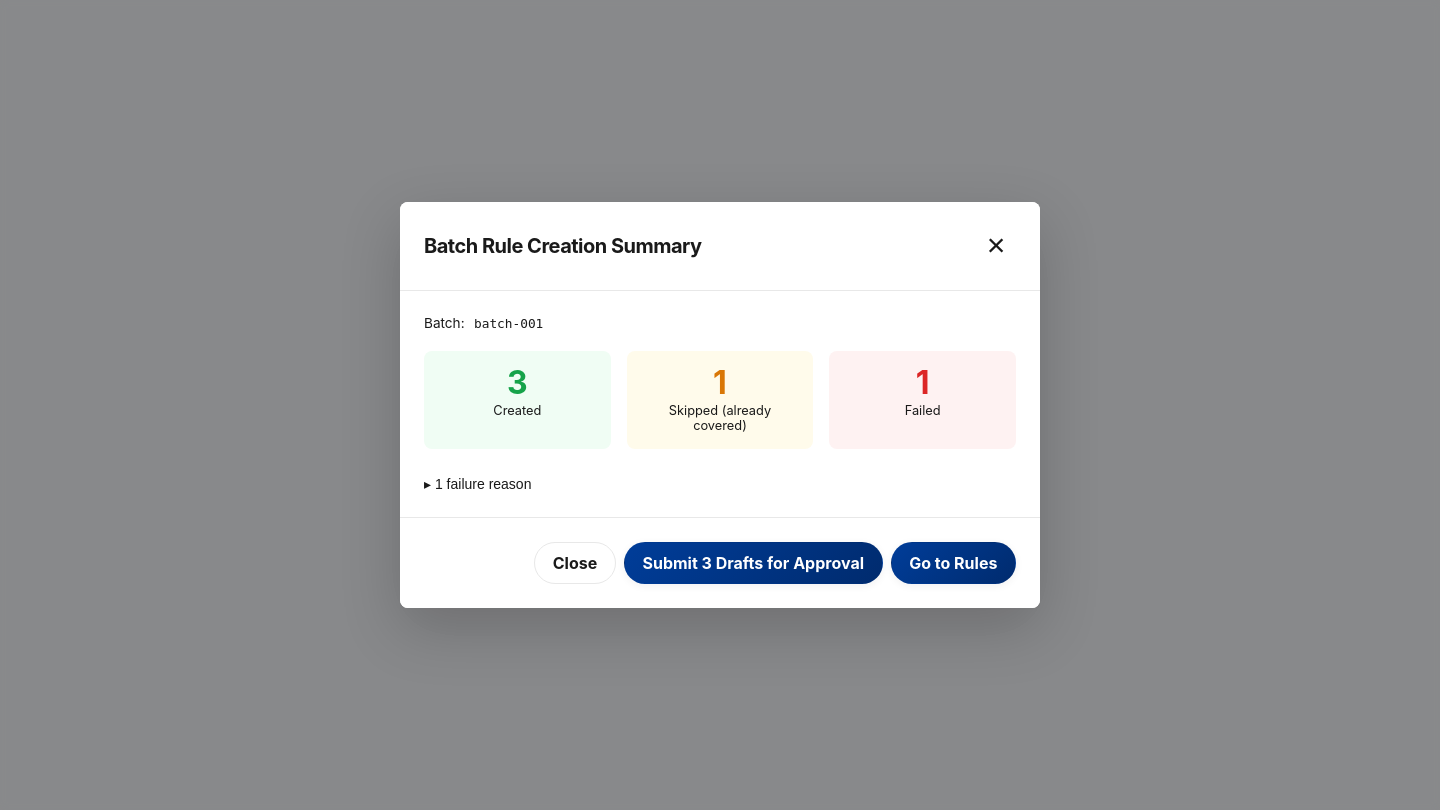
Test: OnboardingBatchSummary › shows error banner when some approvals fail
Click the button "Submit 3 Drafts for Approval": click(753, 563) [624, 542, 883, 584]
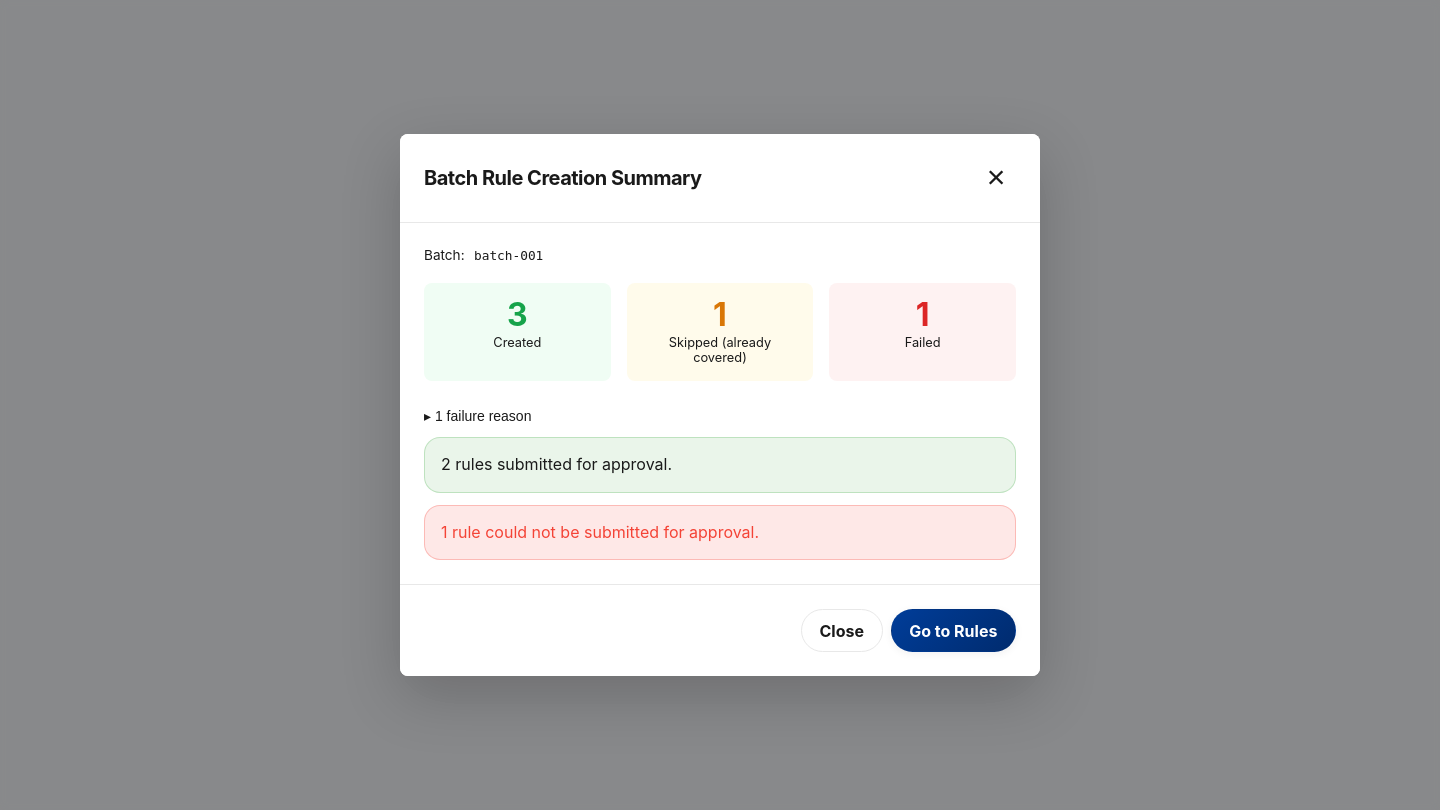
Result: the text "1 rule could not be submitted for approval." is shown at [441, 521, 759, 544]
